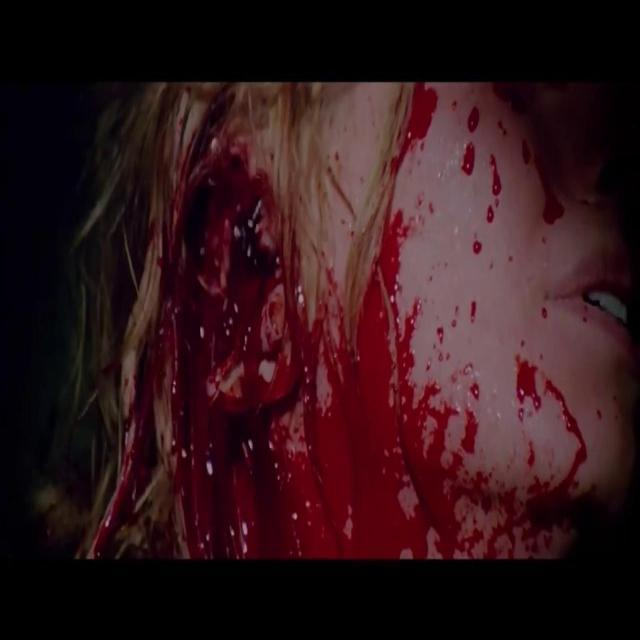flood: (105, 140, 583, 558)
